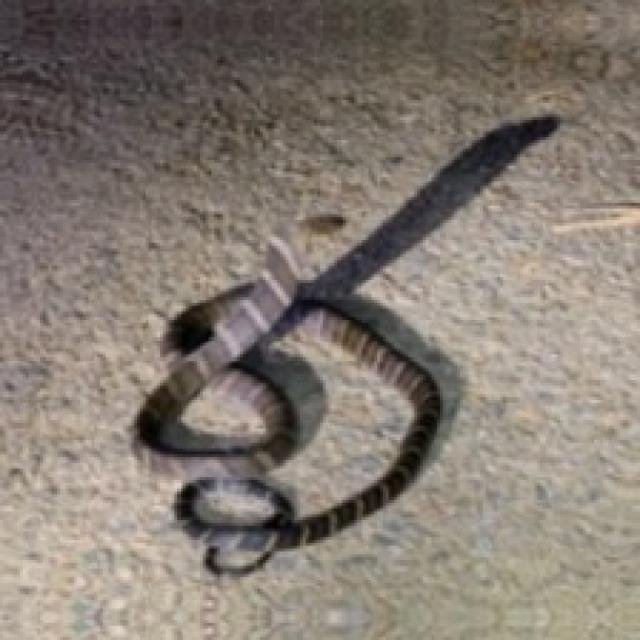king cobra: (134, 114, 557, 571), (134, 237, 454, 571)
